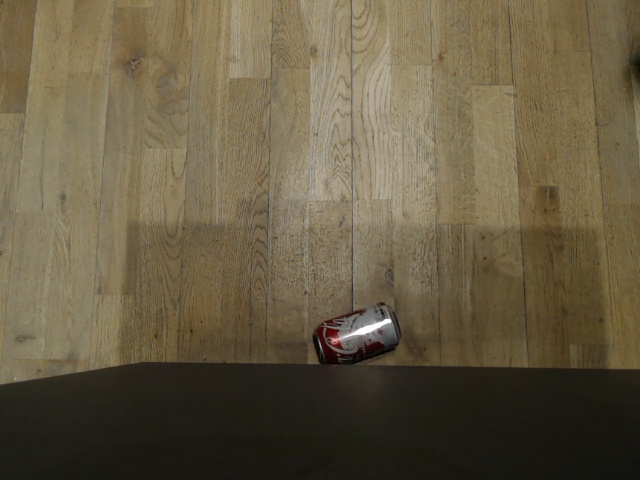cola: (311, 299, 403, 366)
